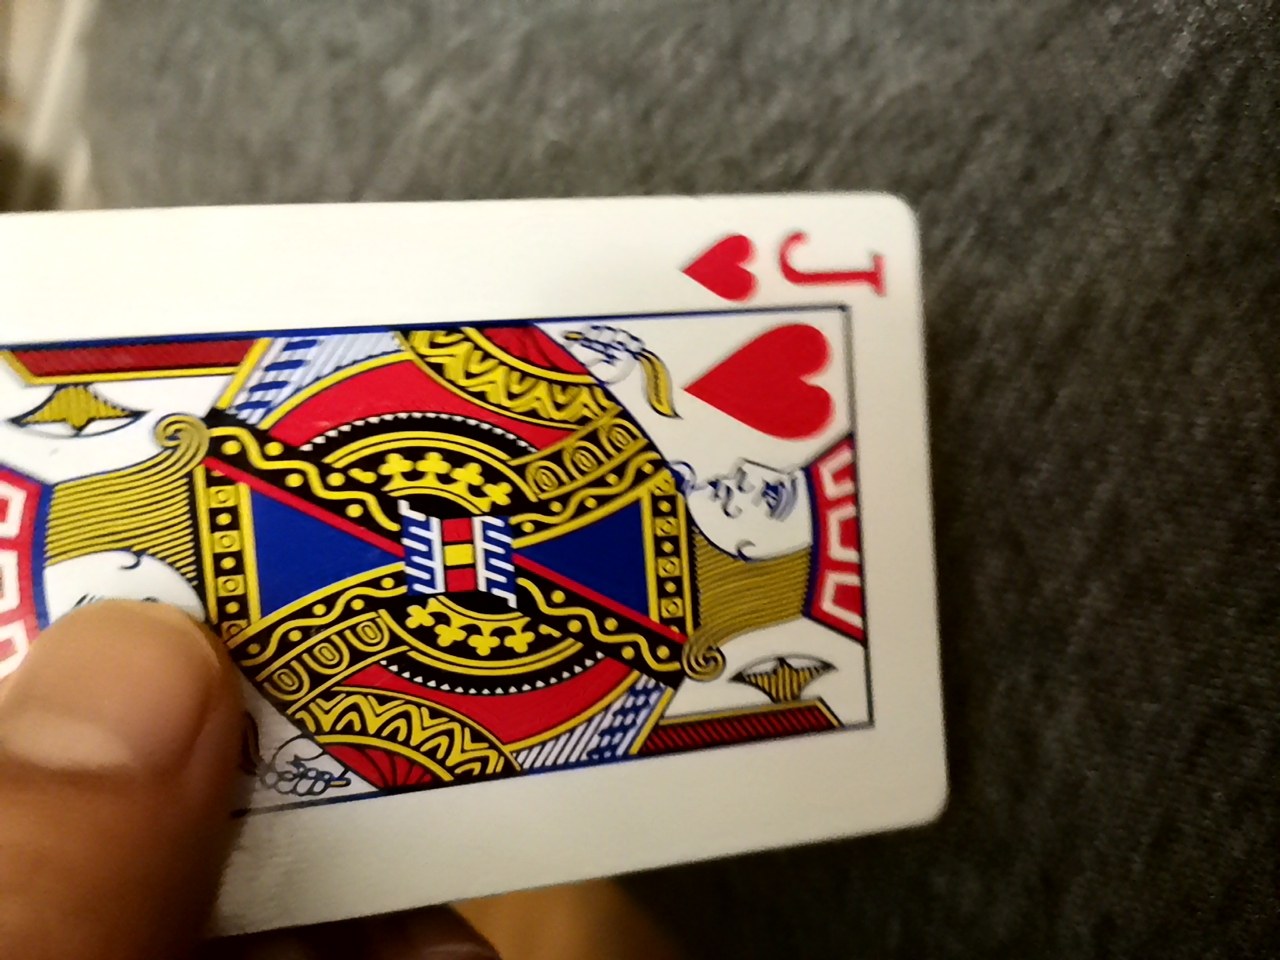hx j: (6, 192, 962, 925)
